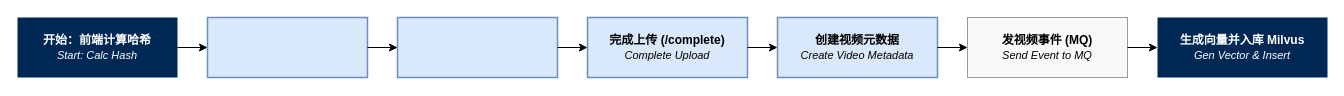
Image size: 1344x96. Some labels were removed from this diagram. Each missing label, with the box of its shape:
分片上传 (/chunk) Upload Chunks: (396, 16, 558, 78)
初始化上传 (/init) Init Upload: (206, 16, 368, 78)
